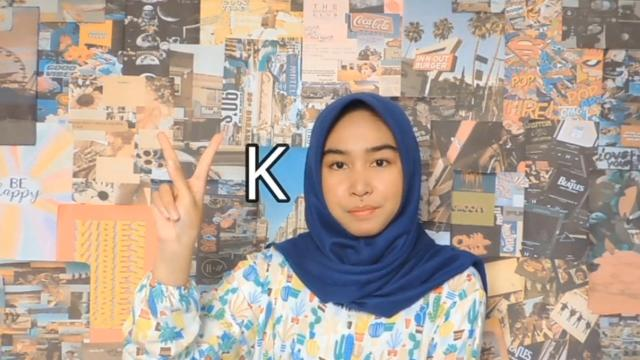K: (148, 131, 224, 255)
